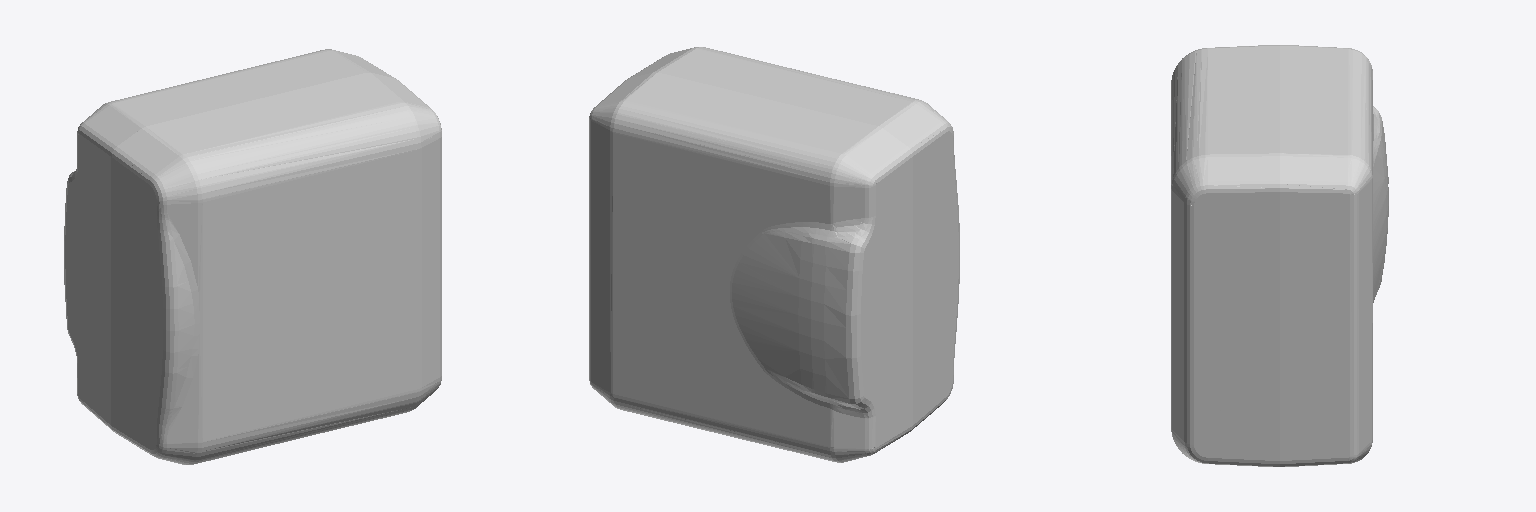
File: gripper_link.obj
The picture shows the model from 3 angles: view 1: azimuth 30°, elevation 25°; view 2: azimuth 150°, elevation 25°; view 3: azimuth 270°, elevation 25°; orthographic projection.
Parts seen in each view (by area): view 1: obj1; view 2: obj1; view 3: obj1.
Part boxes in pixels (x1,y1,x2,y2): obj1: (64, 49, 441, 464); obj1: (589, 47, 959, 462); obj1: (1171, 45, 1388, 466).
Size of the model in its own units: 0.122 by 0.1261 by 0.0795.